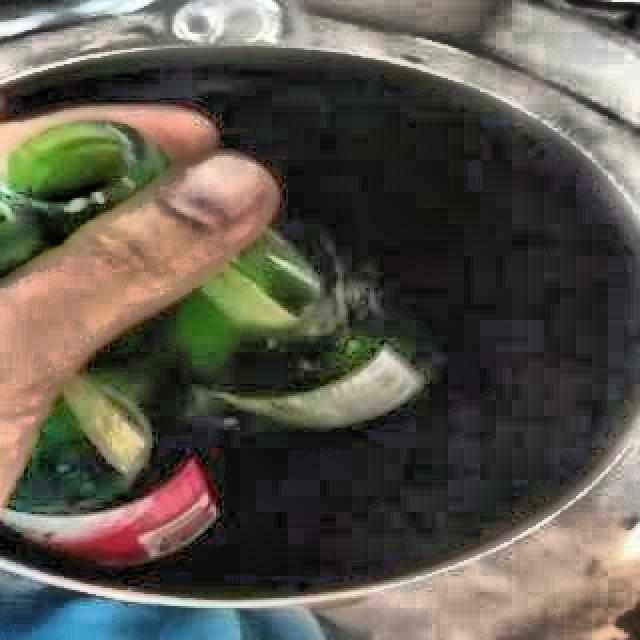glass: (3, 229, 424, 565), (0, 119, 171, 281)
